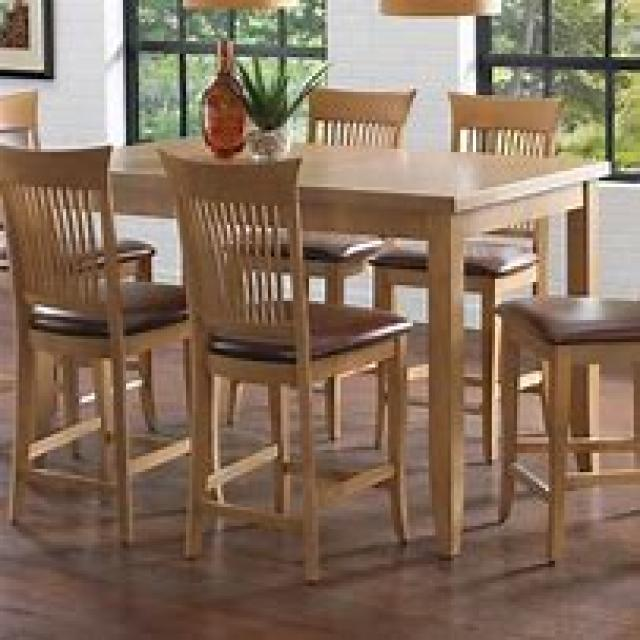chair: (154, 146, 413, 583), (366, 88, 564, 466), (221, 82, 416, 444), (492, 171, 637, 564)
table: (0, 133, 612, 558)
